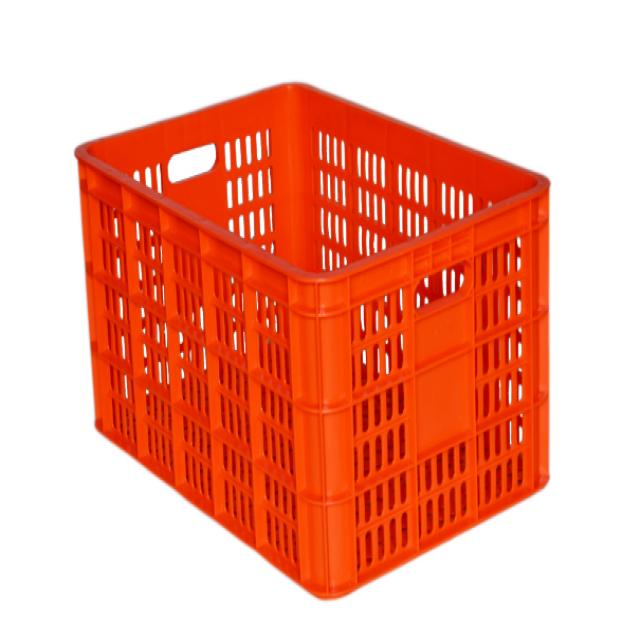basket: (74, 72, 570, 609)
